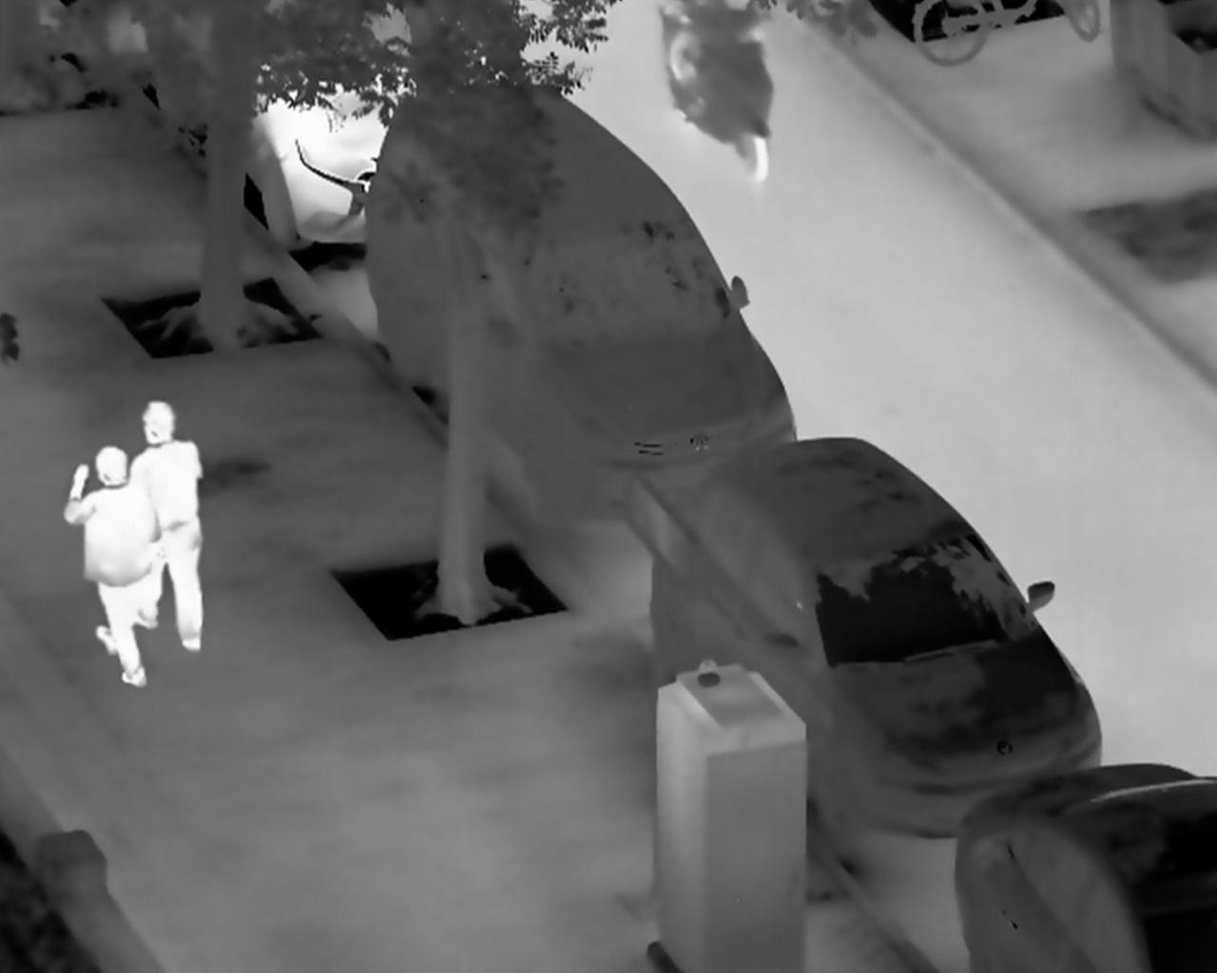person: (61, 445, 164, 690), (128, 397, 207, 655)
